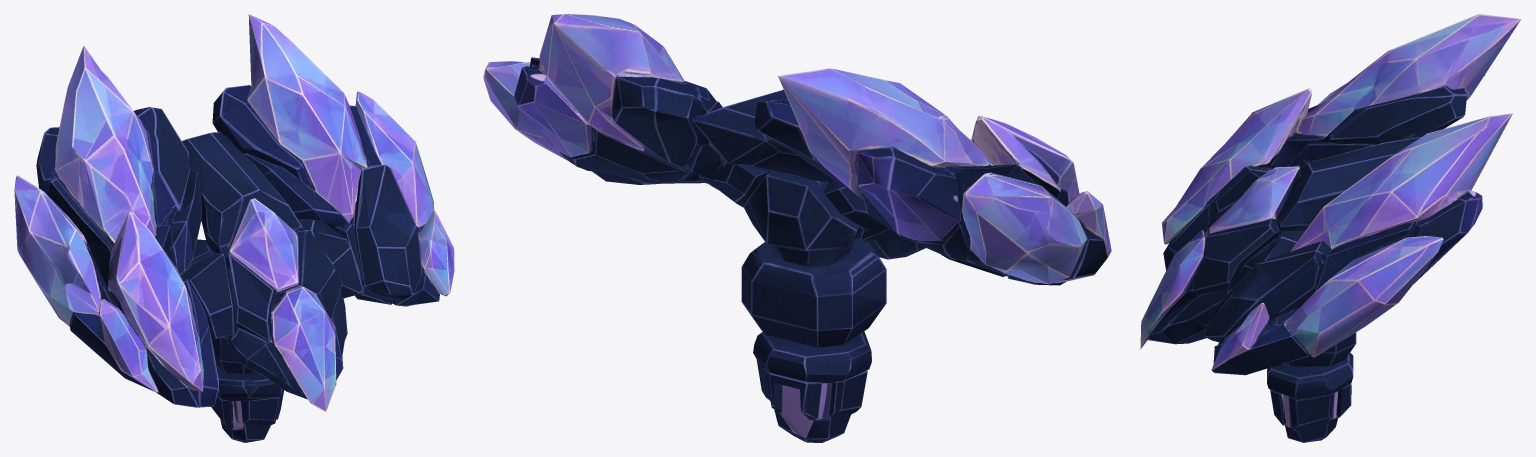
The model's file is 2ecc3271-5047-4042-bc81-97b6774d8065_part_62_optimized.glb.
3 views of the same model, side by side, from view 1: azimuth 30°, elevation 25°; view 2: azimuth 150°, elevation 25°; view 3: azimuth 270°, elevation 25° (orthographic). The views are drawn at different scales.
Visible parts, largest first — view 1: output_unwrapped; view 2: output_unwrapped; view 3: output_unwrapped.
Part boxes in pixels (x1,y1,x2,y2): output_unwrapped: (14,14,454,442); output_unwrapped: (483,14,1111,442); output_unwrapped: (1140,14,1521,442).
Size of the model in its own units: 1.9 by 1.56 by 1.42.
Materials: 1 (1 with a texture image).
